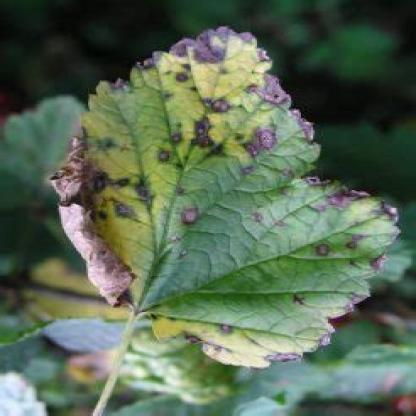black-spot: (96, 117, 252, 254), (281, 190, 376, 267), (167, 53, 254, 112), (202, 315, 246, 344)
